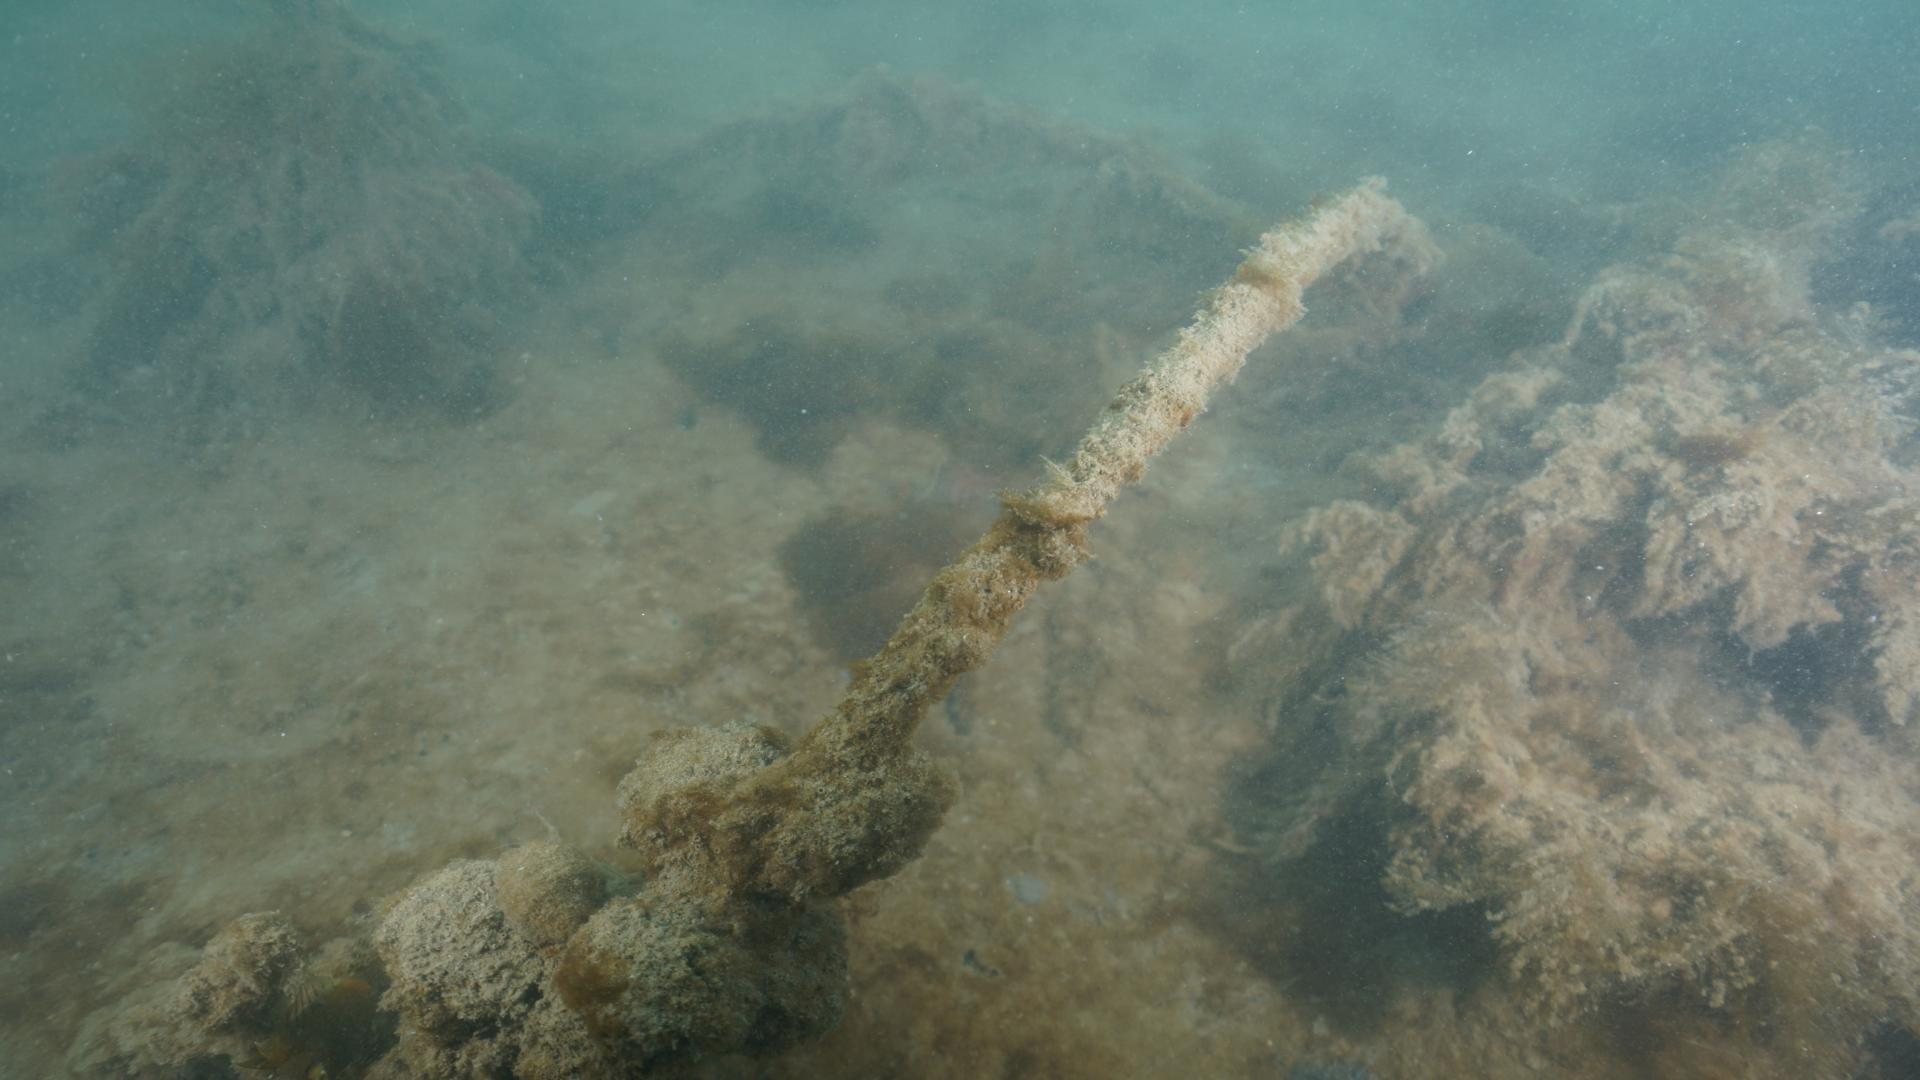rope: (787, 171, 1436, 775)
